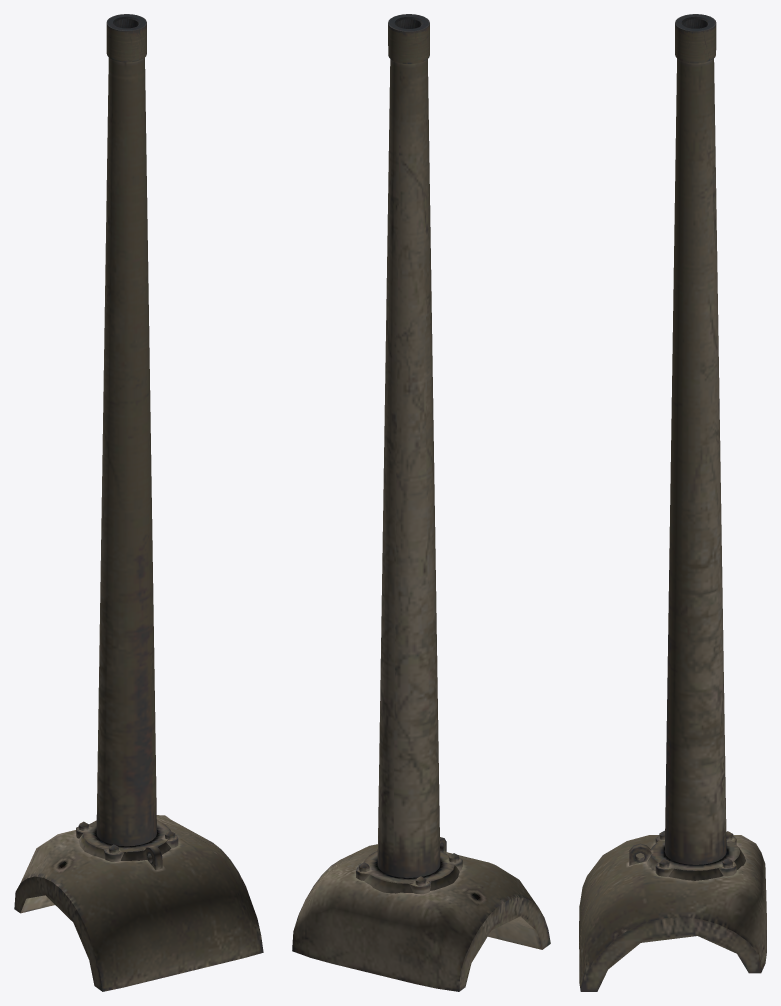
The model's file is Gun_01.glb.
The picture shows the model from 3 angles, left to right: view 1: azimuth 30°, elevation 25°; view 2: azimuth 150°, elevation 25°; view 3: azimuth 270°, elevation 25°; orthographic projection. The views are drawn at different scales.
Parts seen in each view (by area): view 1: set_0_group_0; view 2: set_0_group_0; view 3: set_0_group_0.
Part boxes in pixels (x1,y1,x2,y2): set_0_group_0: (14,14,263,991); set_0_group_0: (292,14,550,991); set_0_group_0: (579,14,766,991).
Size of the model in its own units: 0.6606 by 3.56 by 0.6523.
1 material, 1 textured.
